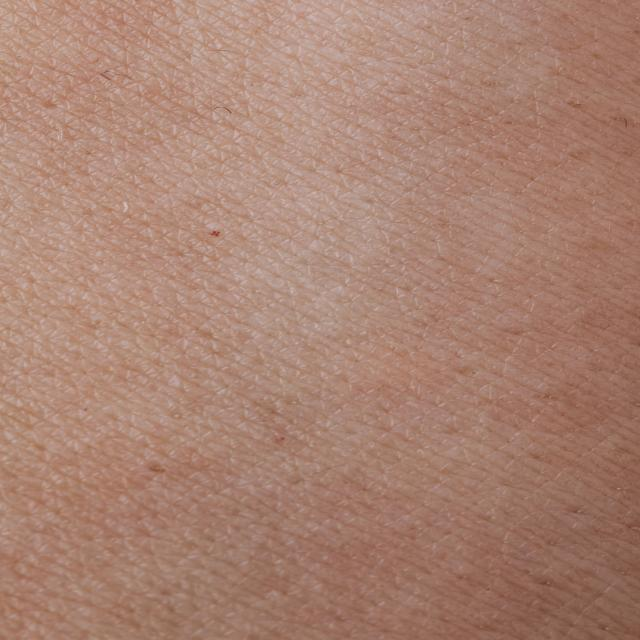Dry-Skin: (10, 13, 326, 220), (366, 329, 640, 550), (23, 379, 270, 596)
